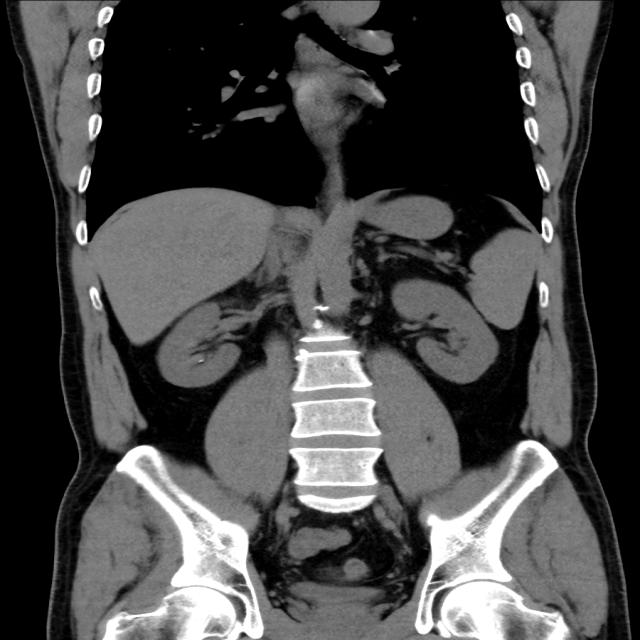kidneystone: (195, 356, 203, 360)
